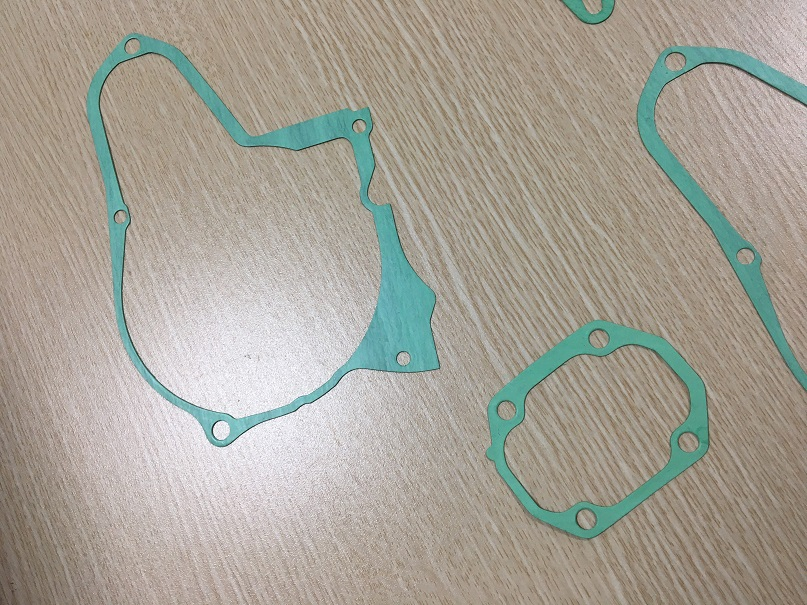type1: (75, 22, 443, 448)
type2: (480, 311, 718, 544)
